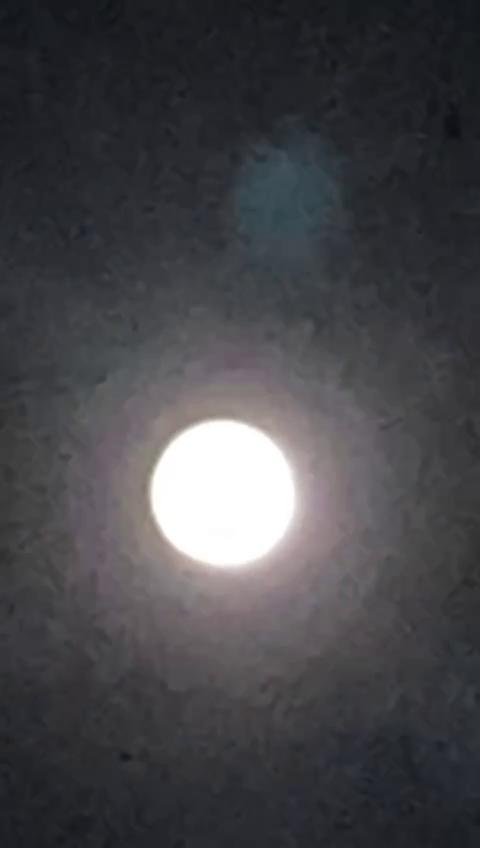moon: (146, 414, 307, 572)
